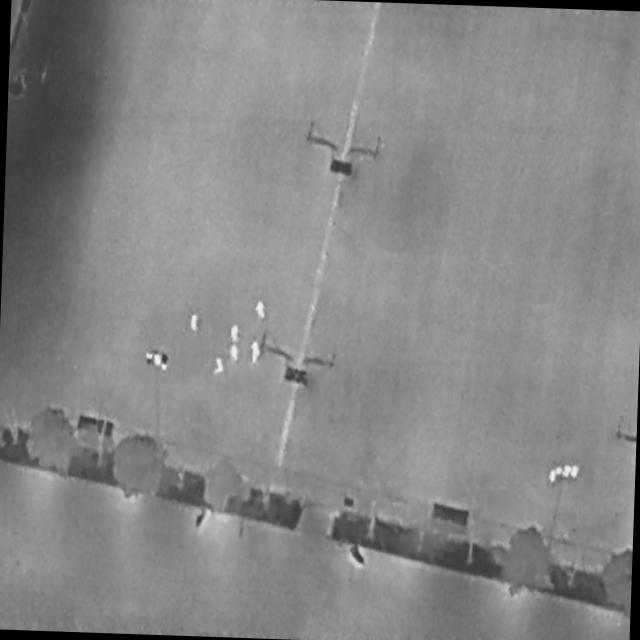person: (251, 340, 262, 364), (230, 324, 241, 344), (230, 342, 241, 362), (256, 299, 267, 318), (214, 356, 225, 375), (191, 313, 201, 332)
